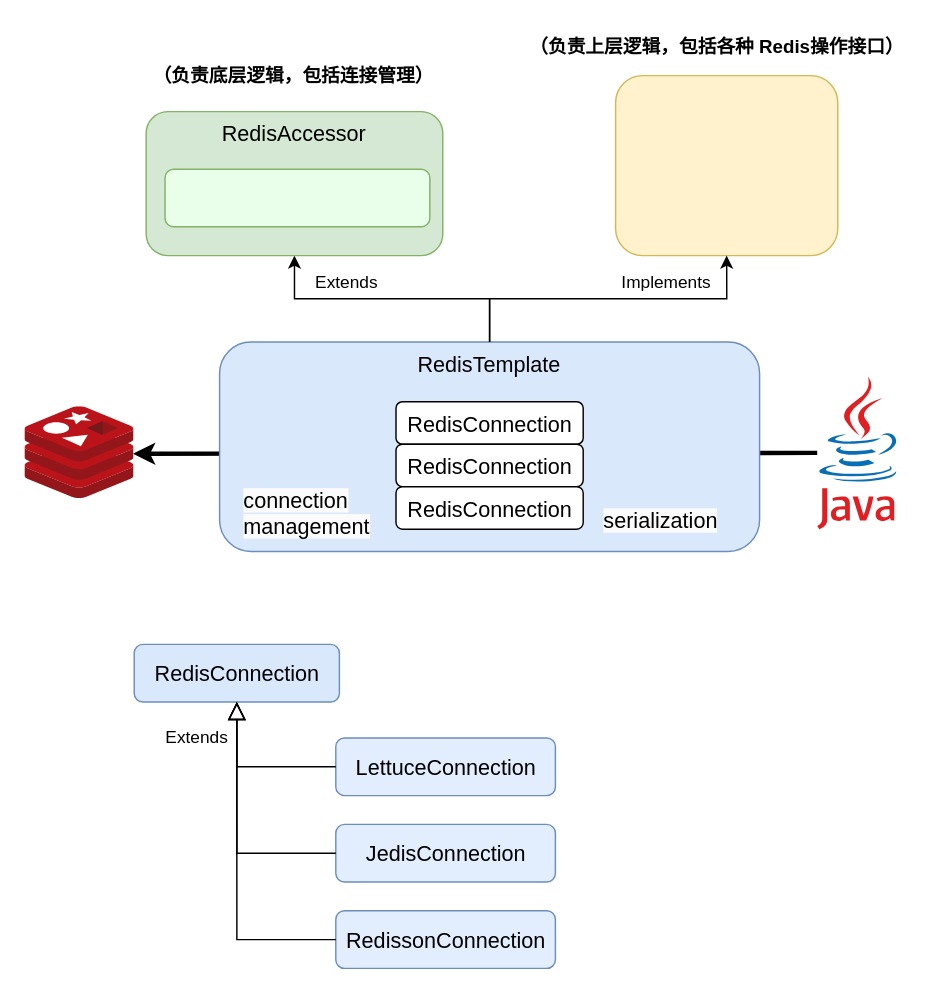
The diagram is 942 pixels wide and 994 high, and some of its shapes have lost their labels. The shapes that lost their labels are listed below. From the top down, each one's centre as x and y in pixels, then its label:
At (x=726, y=165): "RedisOperation * execute() * opsForValue() * keys() * expire()".
At (x=297, y=197): "RedisConnectionFactory".
